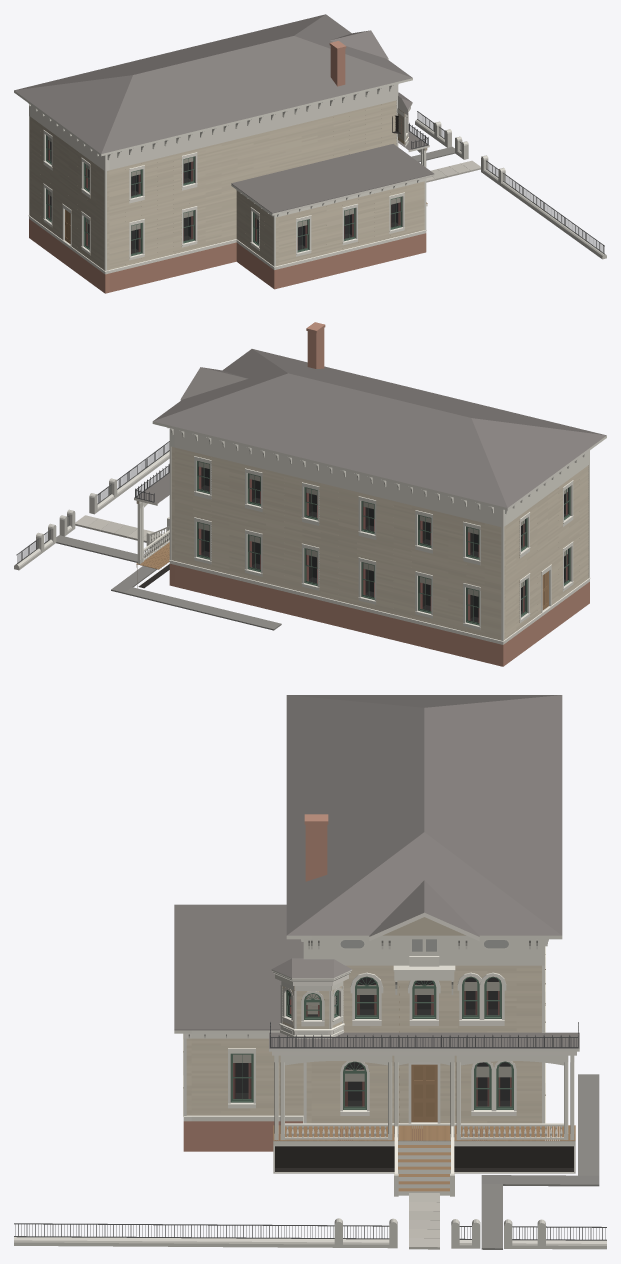
File: walker_house_1720_prairie__as_mapped_1904.glb
3 renders of one model, top to bottom at view 1: azimuth 30°, elevation 25°; view 2: azimuth 150°, elevation 25°; view 3: azimuth 270°, elevation 25°, orthographic. The views are drawn at different scales.
Visible parts, largest first — view 1: walker_house_1720_prairie__as_mapped_1904; view 2: walker_house_1720_prairie__as_mapped_1904; view 3: walker_house_1720_prairie__as_mapped_1904.
Part boxes in pixels (x1=…): walker_house_1720_prairie__as_mapped_1904: x1=14, y1=14, x2=606, y2=293; walker_house_1720_prairie__as_mapped_1904: x1=14, y1=322, x2=606, y2=666; walker_house_1720_prairie__as_mapped_1904: x1=14, y1=695, x2=606, y2=1249.
Size of the model in its own units: 31.95 by 13.74 by 24.72.
